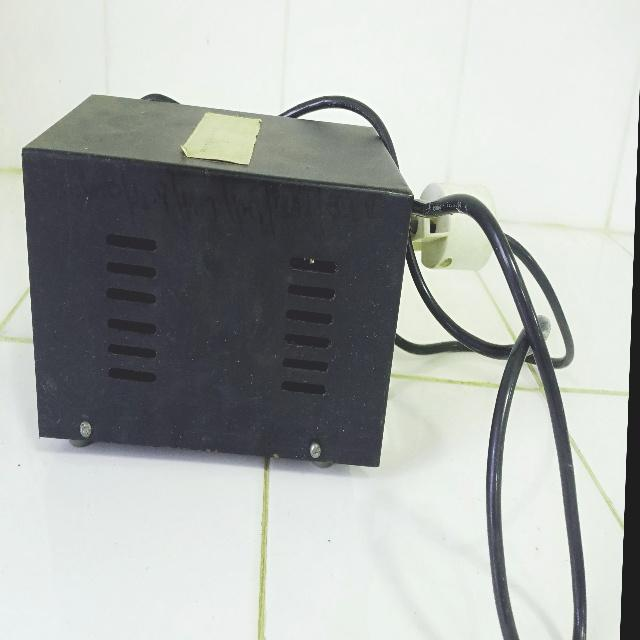Sodium Lamp Power Supply: (2, 75, 424, 492)
